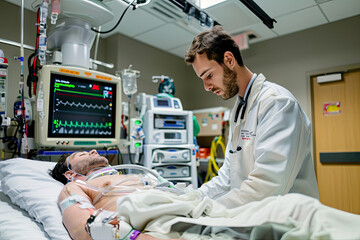Doctor: (185, 32, 281, 172)
monitoring system: (37, 62, 160, 151)
patient: (57, 149, 173, 203)
